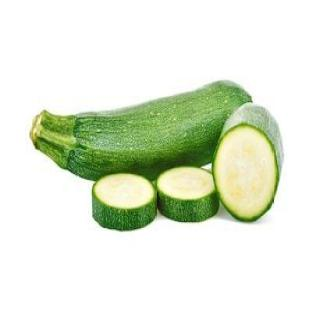Zucchini: (31, 82, 251, 179), (213, 104, 283, 220), (93, 173, 156, 230), (157, 167, 219, 221)
